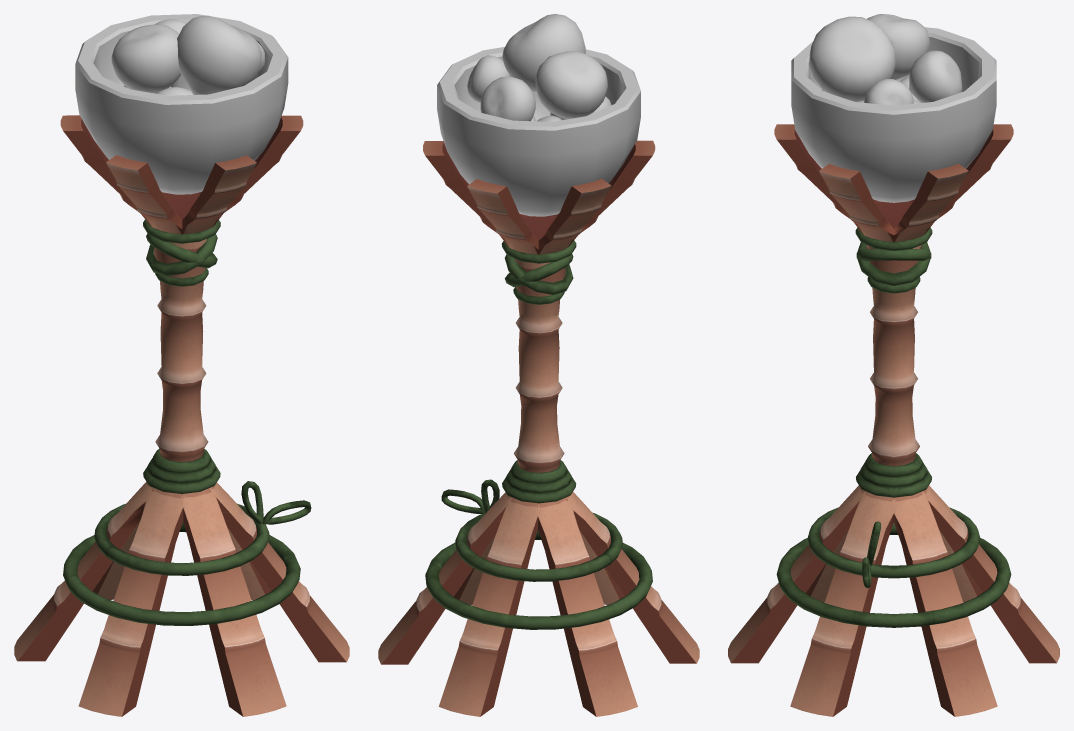
File: Prop_Torch.fbx
The picture shows the model from 3 angles, left to right: view 1: azimuth 30°, elevation 25°; view 2: azimuth 150°, elevation 25°; view 3: azimuth 270°, elevation 25°; orthographic projection. The views are drawn at different scales.
Visible parts, largest first — view 1: TorchBottom, TorchCoconut, TorchTop, TorchBody, TorchFruit1, TorchStem7, TorchFruit2, TorchStem6, TorchStem5, TorchStem2, TorchStem3, TorchStem1 (+2 smaller); view 2: TorchBottom, TorchCoconut, TorchTop, TorchBody, TorchStem7, TorchFruit2, TorchFruit1, TorchStem6, TorchStem5, TorchFruit4, TorchFruit3, TorchStem2 (+3 smaller); view 3: TorchBottom, TorchCoconut, TorchTop, TorchBody, TorchFruit1, TorchStem7, TorchStem6, TorchStem5, TorchFruit4, TorchFruit2, TorchStem3, TorchFruit3 (+2 smaller).
Boxes of the visible parts, bbox=[...] form: TorchBottom: bbox=[14, 482, 349, 716]; TorchCoconut: bbox=[75, 14, 288, 194]; TorchTop: bbox=[60, 115, 303, 234]; TorchBody: bbox=[154, 239, 208, 461]; TorchFruit1: bbox=[177, 15, 261, 94]; TorchStem7: bbox=[63, 521, 300, 625]; TorchFruit2: bbox=[111, 24, 181, 93]; TorchStem6: bbox=[94, 503, 269, 575]; TorchStem5: bbox=[143, 448, 220, 493]; TorchStem2: bbox=[146, 234, 217, 276]; TorchStem3: bbox=[146, 233, 217, 268]; TorchStem1: bbox=[143, 219, 220, 243]; TorchBottom: bbox=[378, 492, 699, 716]; TorchCoconut: bbox=[437, 47, 640, 216]; TorchTop: bbox=[423, 140, 655, 254]; TorchBody: bbox=[514, 259, 565, 472]; TorchStem7: bbox=[425, 529, 652, 629]; TorchFruit2: bbox=[535, 51, 607, 118]; TorchFruit1: bbox=[502, 14, 585, 92]; TorchStem6: bbox=[455, 513, 622, 581]; TorchStem5: bbox=[502, 460, 576, 503]; TorchFruit4: bbox=[480, 76, 535, 121]; TorchFruit3: bbox=[467, 55, 509, 102]; TorchStem2: bbox=[504, 254, 573, 294]; TorchBottom: bbox=[728, 485, 1059, 716]; TorchCoconut: bbox=[791, 27, 996, 202]; TorchTop: bbox=[774, 124, 1013, 241]; TorchBody: bbox=[866, 245, 921, 466]; TorchFruit1: bbox=[809, 16, 895, 102]; TorchStem7: bbox=[776, 523, 1011, 627]; TorchStem6: bbox=[807, 507, 980, 578]; TorchStem5: bbox=[856, 453, 931, 497]; TorchFruit4: bbox=[909, 50, 962, 102]; TorchFruit2: bbox=[867, 14, 929, 79]; TorchStem3: bbox=[856, 242, 931, 285]; TorchFruit3: bbox=[864, 79, 913, 105].
Size of the model in its own units: 111 by 255 by 121.
